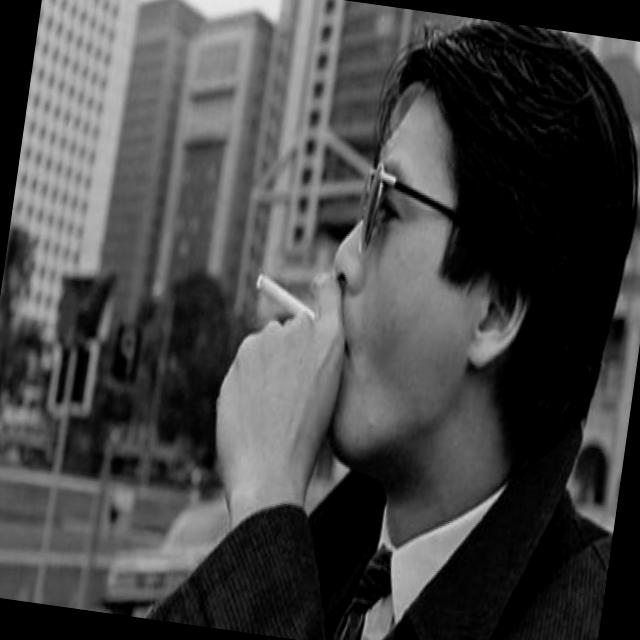smoke: (250, 265, 327, 336)
